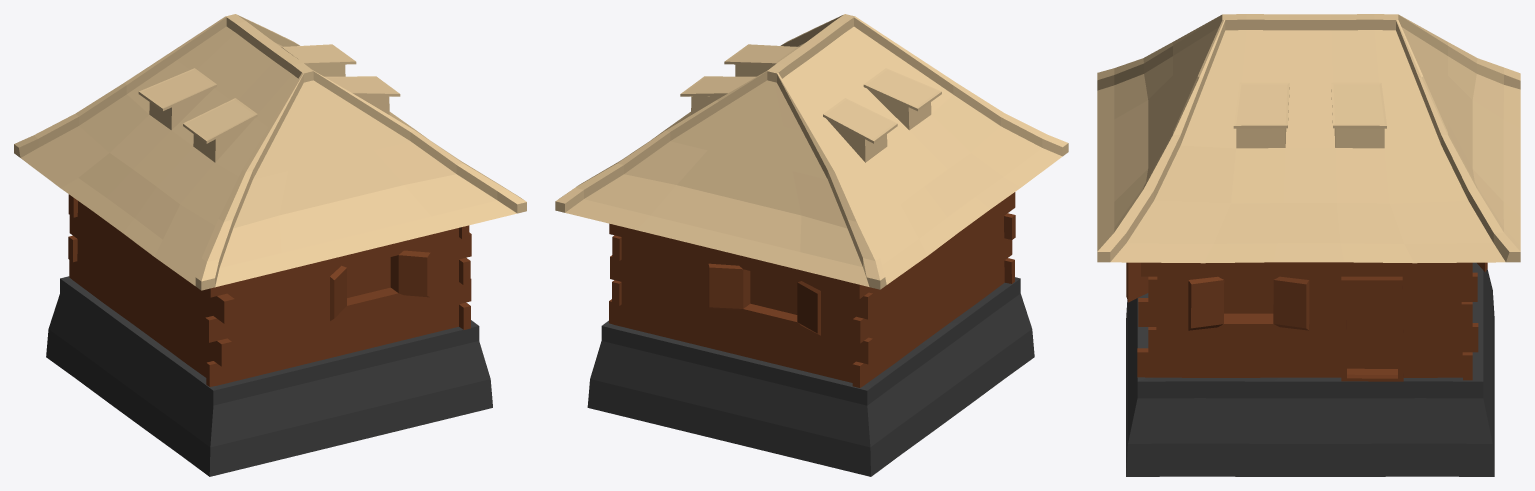
File: House_Small_DP_2609.fbx
3 renders of one model, left to right at view 1: azimuth 30°, elevation 25°; view 2: azimuth 150°, elevation 25°; view 3: azimuth 270°, elevation 25°, orthographic. The views are drawn at different scales.
Visible parts, largest first — view 1: Cube; view 2: Cube; view 3: Cube.
Boxes of the visible parts, left/top/right/bottom form: Cube: left=14, top=14, right=526, bottom=476; Cube: left=555, top=14, right=1068, bottom=476; Cube: left=1097, top=14, right=1520, bottom=476.
Size of the model in its own units: 1379 by 1373 by 1379.
